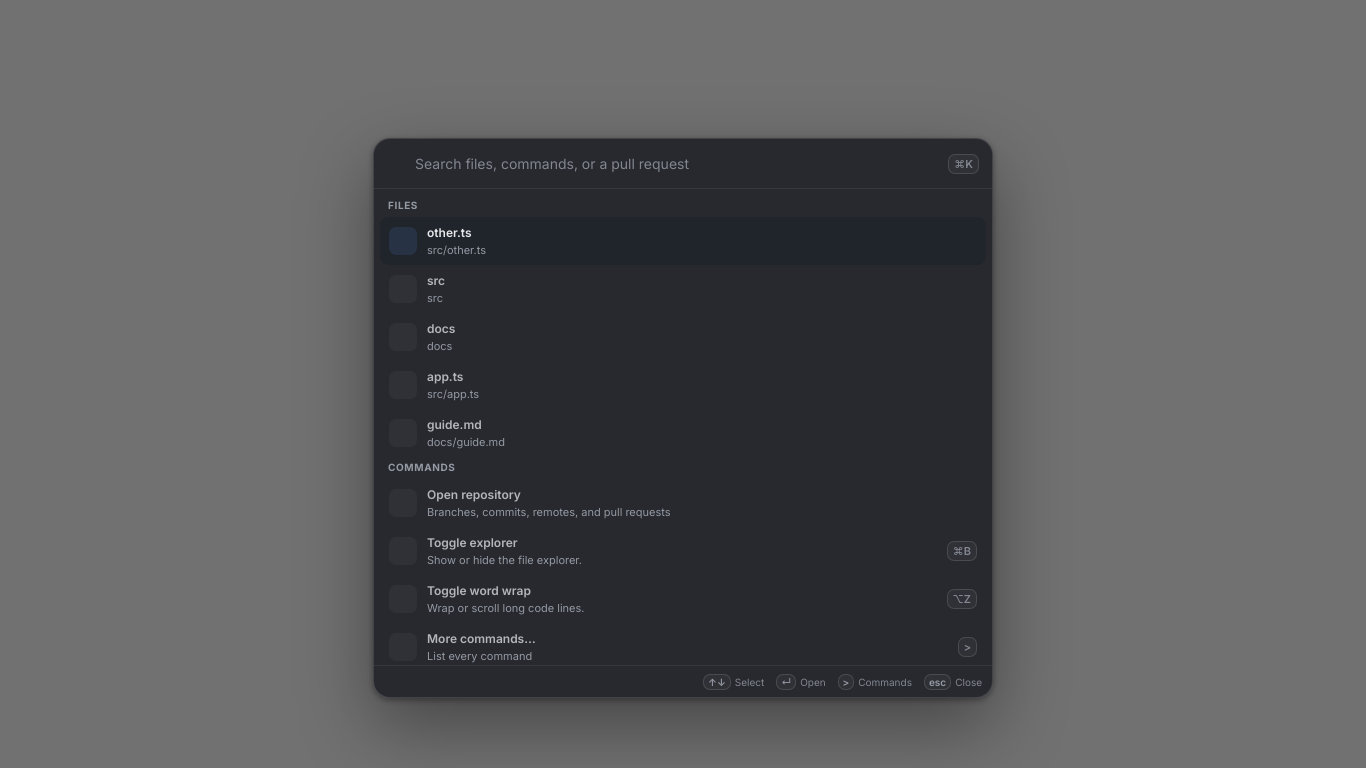
Test case: CommandPalette › More commands switches the palette to the command list
Click the button "More commands… List every command >": (481, 639) x1=380 y1=623 x2=986 y2=671
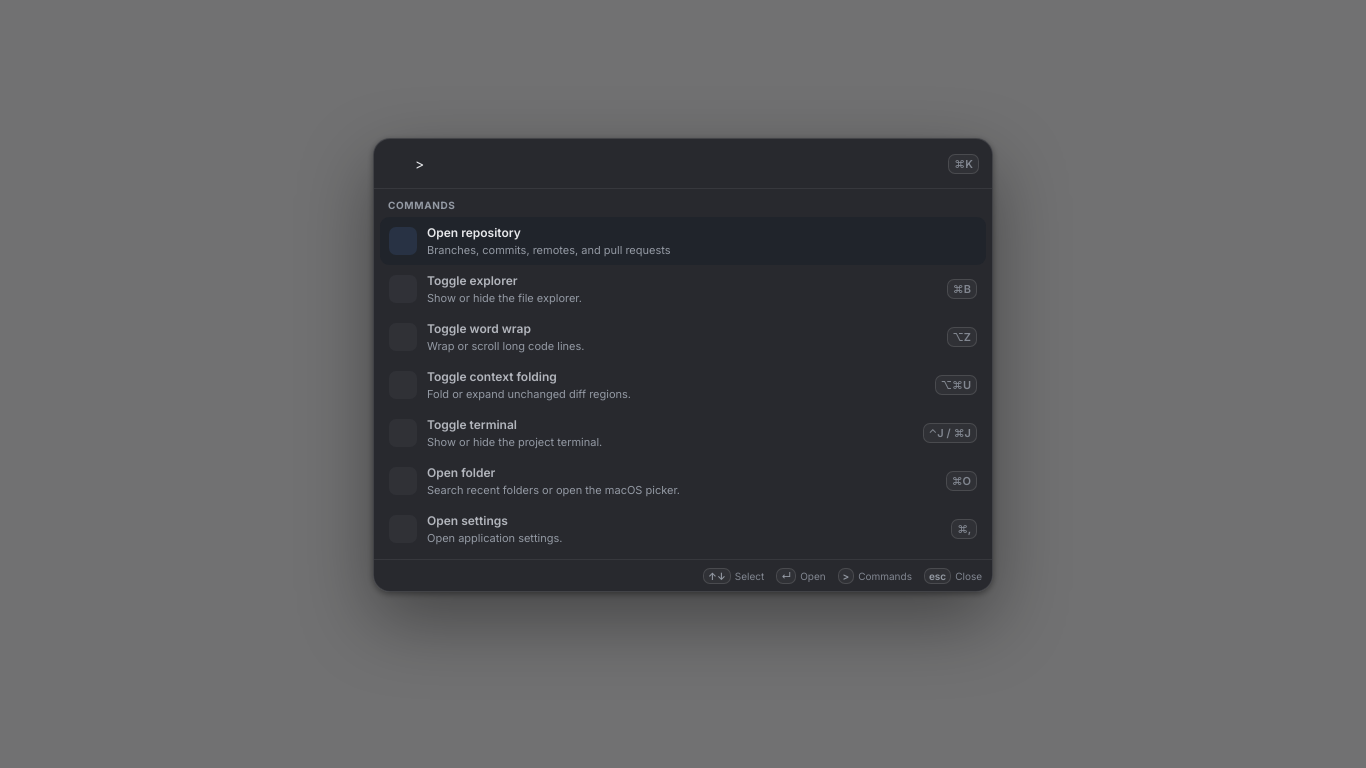
Expected: the button "Toggle word wrap Wrap or scroll long code lines. ⌥Z" is shown, x1=380 y1=313 x2=986 y2=361
Expected: the field with placeholder "Search files, commands, or a pull request" holds ">", x1=413 y1=154 x2=938 y2=173
Expected: the button "More commands" is gone
